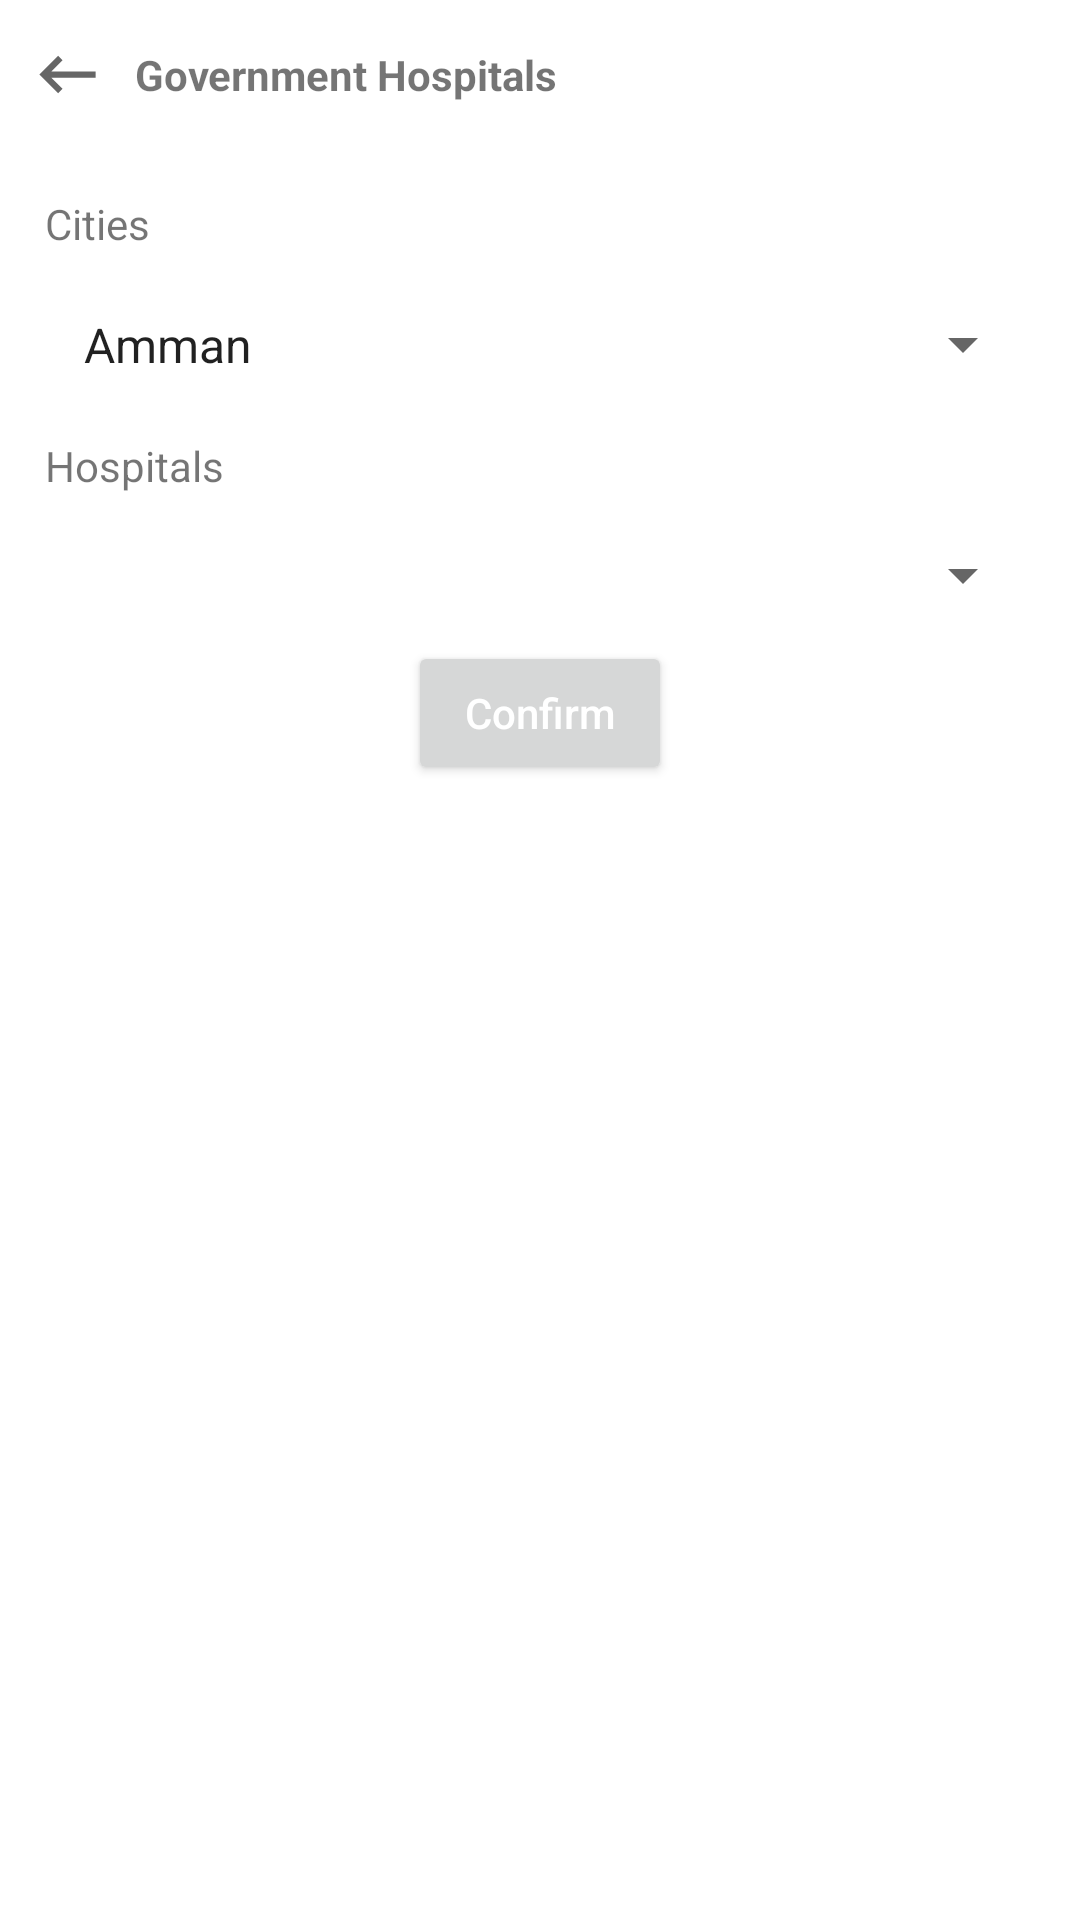

Icon bounding boxes for this 1080px x 1920px phone screenshot, format {"x1": x1, "y1": y1, "x2": x2, "y2": y2}:
back: {"x1": 39, "y1": 56, "x2": 96, "y2": 93}
